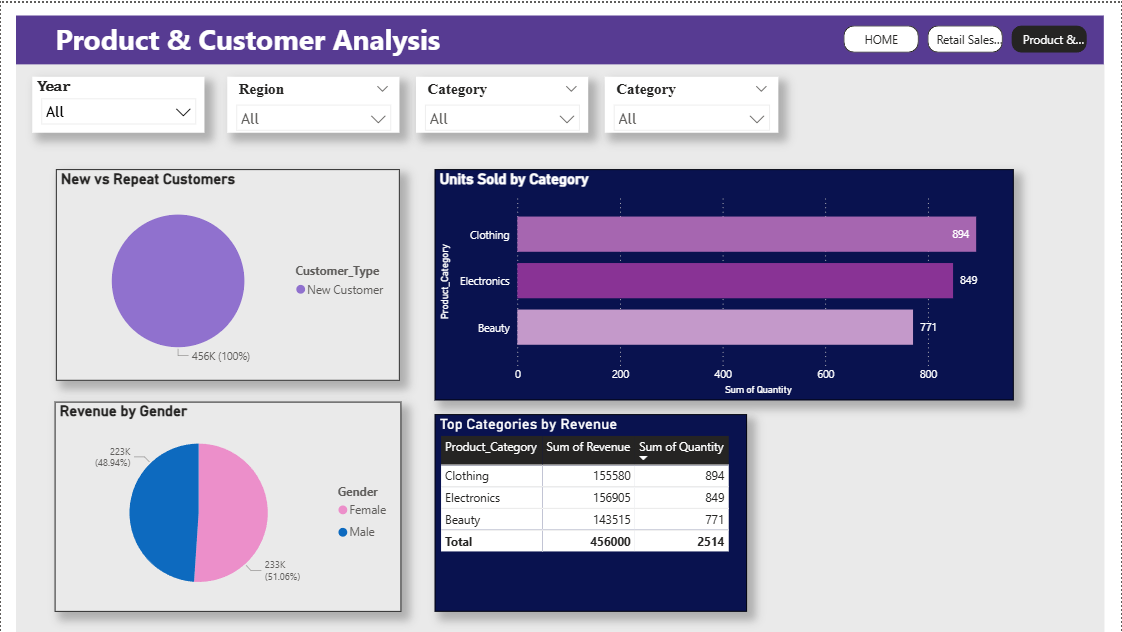

Layout of this report page (visuals, bound fields, positions):
{"tool":"powerbi","page":{"name":"Product & Customer Analysis","canvas":[1280,720],"ordinal":2},"visuals":[{"type":"textbox","box":[17.8,13.7,1243.2,56.3],"z":0},{"type":"shape","box":[17.1,70,1244.3,650],"z":1000},{"type":"pieChart","title":"Revenue by Gender","fields":{"Category":["sales retail_sales (2).Gender"],"Y":["Sum(sales retail_sales (2).Revenue)"]},"box":[61.4,455.7,395.7,240],"z":2000},{"type":"clusteredBarChart","title":"Units Sold by Category","fields":{"Category":["sales retail_sales (2).Product_Category"],"Y":["Sum(sales retail_sales (2).Quantity)"]},"box":[495.7,190,661.4,264.3],"z":3000},{"type":"tableEx","title":"Top Categories by Revenue","fields":{"Values":["sales retail_sales (2).Product_Category","Sum(sales retail_sales (2).Revenue)","Sum(sales retail_sales (2).Quantity)"]},"box":[495.7,470,357.1,225.7],"z":4000},{"type":"pieChart","title":"New vs Repeat Customers","fields":{"Category":["sales retail_sales (2).Customer_Type"],"Y":["Sum(sales retail_sales (2).Revenue)"]},"box":[62.9,190,392.9,241.4],"z":5000},{"type":"group","id":"g1","title":"Group 1","box":[35.7,84.3,852.9,64.3],"z":6000},{"type":"slicer","title":"Year","fields":{"Values":["sales retail_sales (2).salesDate.Variation.Date Hierarchy.Year","sales retail_sales (2).salesDate.Variation.Date Hierarchy.Quarter","sales retail_sales (2).salesDate.Variation.Date Hierarchy.Month","sales retail_sales (2).salesDate.Variation.Date Hierarchy.Day"]},"box":[35.7,84.3,197.1,64.3],"z":6000,"group":"g1"},{"type":"pageNavigator","box":[962.9,25.7,280,31.4],"z":7000},{"type":"slicer","fields":{"Values":["sales retail_sales (2).Region"]},"box":[258.6,84.3,197.1,64.3],"z":7000,"group":"g1"},{"type":"slicer","fields":{"Values":["sales retail_sales (2).Product_Category"]},"box":[474.3,84.3,197.1,64.3],"z":8000,"group":"g1"},{"type":"slicer","fields":{"Values":["sales retail_sales (2).Gender"]},"box":[690,84.3,198.6,64.3],"z":9000,"group":"g1"}]}

Visuals, with their boxes in screenshot pixels (x1, y1, x2, y2), scaled from the page's 1280x720 canvas onto the 1122x632 screenshot:
textbox: pyautogui.locateOnScreen(16, 12, 1105, 61)
shape: pyautogui.locateOnScreen(15, 61, 1106, 631)
"Revenue by Gender" pieChart: pyautogui.locateOnScreen(54, 400, 401, 611)
"Units Sold by Category" clusteredBarChart: pyautogui.locateOnScreen(435, 167, 1014, 399)
"Top Categories by Revenue" tableEx: pyautogui.locateOnScreen(435, 413, 748, 611)
"New vs Repeat Customers" pieChart: pyautogui.locateOnScreen(55, 167, 400, 379)
"Group 1" group: pyautogui.locateOnScreen(31, 74, 779, 130)
"Year" slicer: pyautogui.locateOnScreen(31, 74, 204, 130)
pageNavigator: pyautogui.locateOnScreen(844, 23, 1089, 50)
slicer - sales retail_sales (2).Region: pyautogui.locateOnScreen(227, 74, 399, 130)
slicer - sales retail_sales (2).Product_Category: pyautogui.locateOnScreen(416, 74, 589, 130)
slicer - sales retail_sales (2).Gender: pyautogui.locateOnScreen(605, 74, 779, 130)
